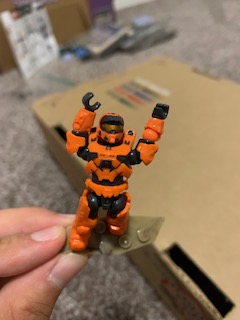spartan: (59, 89, 171, 250)
up: (61, 90, 170, 185)
